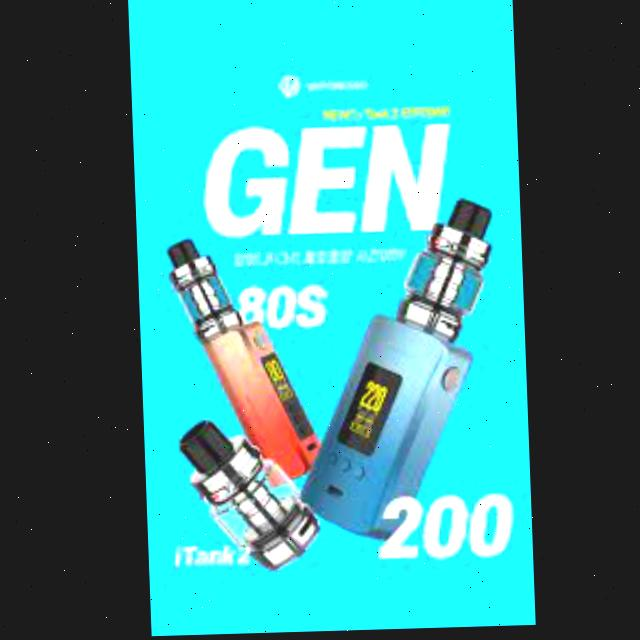vape: (291, 199, 502, 543), (161, 238, 328, 483), (170, 417, 319, 576)
